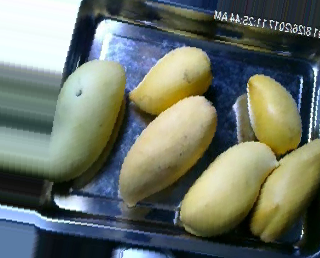Mango: (120, 94, 215, 207), (44, 59, 126, 180), (180, 141, 278, 233), (249, 138, 320, 242), (129, 46, 213, 116), (246, 73, 303, 152)
